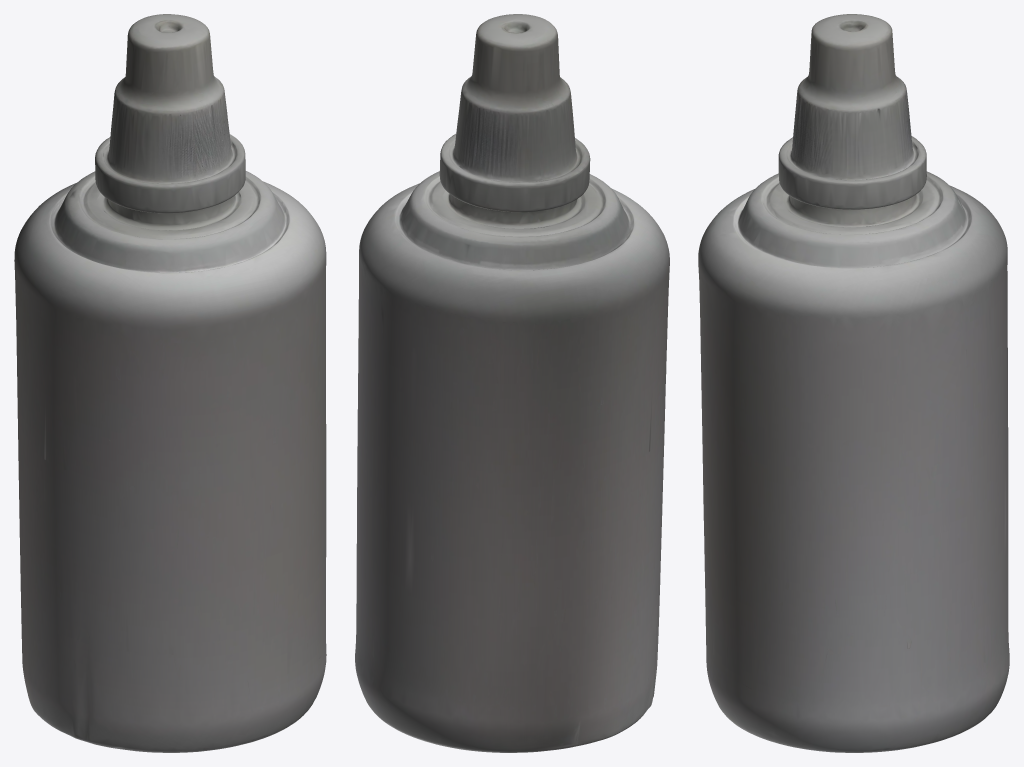
File: disinfectant-bottle-optimized.glb
3 views of the same model, side by side, from view 1: azimuth 30°, elevation 25°; view 2: azimuth 150°, elevation 25°; view 3: azimuth 270°, elevation 25° (orthographic).
Visible parts, largest first — view 1: node_0; view 2: node_0; view 3: node_0.
Part boxes in pixels (x1,y1,x2,y2): node_0: (14,14,326,752); node_0: (355,14,669,752); node_0: (698,14,1009,752).
Size of the model in its own units: 0.4784 by 1.12 by 0.4757.
1 material, 1 textured.
